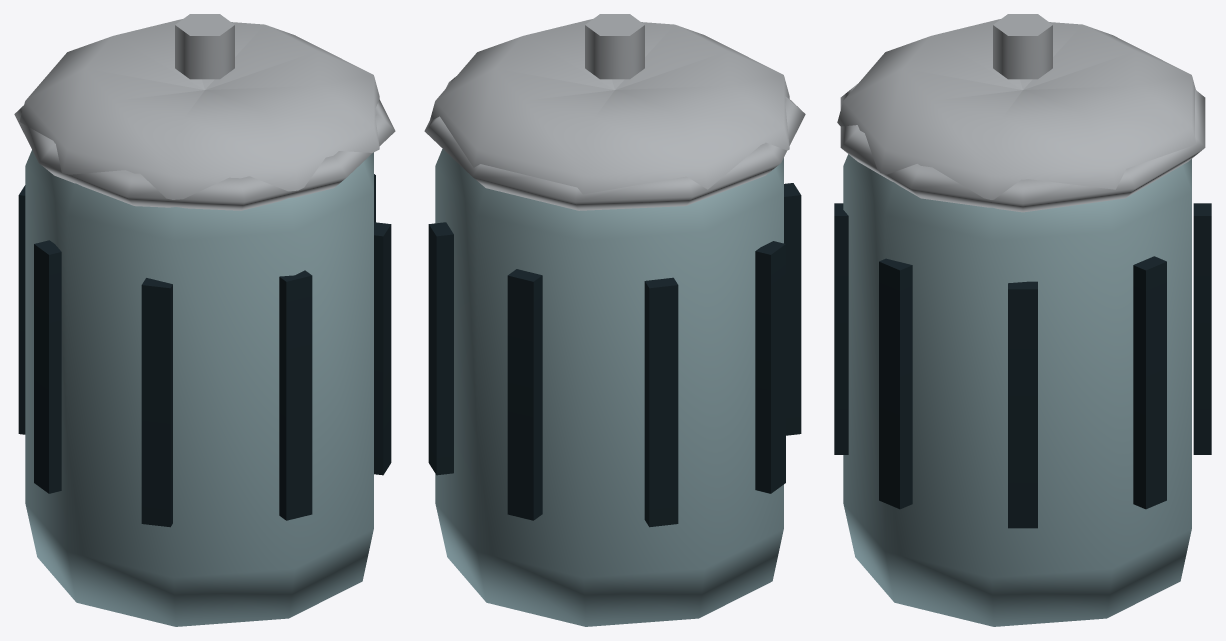
Rendered from trash_bin.glb.
3 views of the same model, side by side, from view 1: azimuth 30°, elevation 25°; view 2: azimuth 150°, elevation 25°; view 3: azimuth 270°, elevation 25° (orthographic).
Visible parts, largest first — view 1: trash_bin; view 2: trash_bin; view 3: trash_bin.
Boxes of the visible parts, x1=… form: trash_bin: x1=14, y1=14, x2=395, y2=626; trash_bin: x1=424, y1=14, x2=805, y2=626; trash_bin: x1=834, y1=14, x2=1211, y2=626.
Size of the model in its own units: 0.64 by 0.98 by 0.63.
